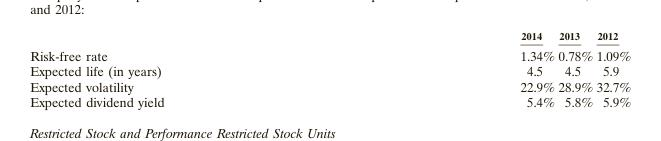table: (29, 29, 630, 109)
table column: (29, 29, 341, 109), (341, 29, 555, 109), (555, 29, 594, 109), (594, 29, 630, 109)
table column header: (29, 29, 630, 44)
table row: (29, 44, 630, 63), (29, 78, 630, 94), (29, 29, 630, 44), (29, 63, 630, 78), (29, 94, 630, 109)
